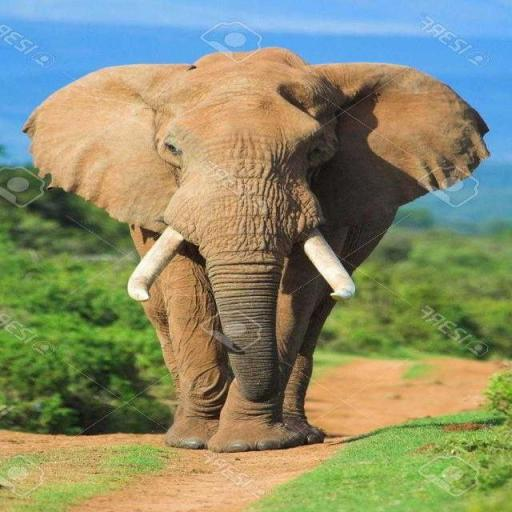Elephant: (21, 46, 491, 452)
